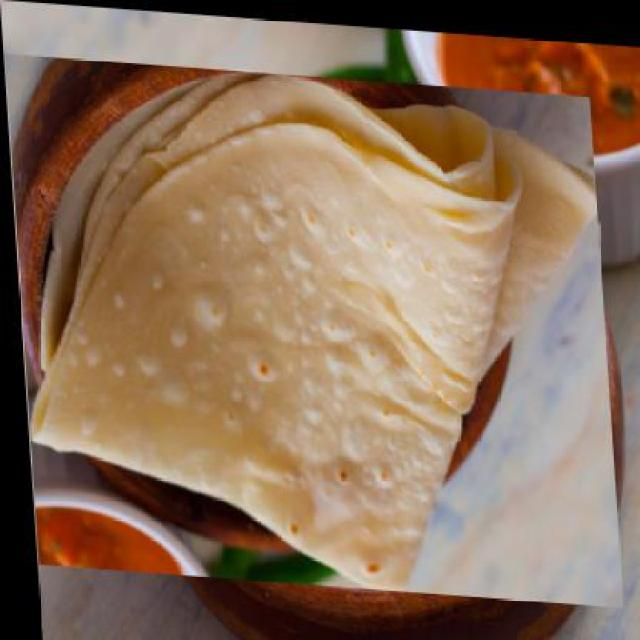chapati: (3, 52, 617, 600)
